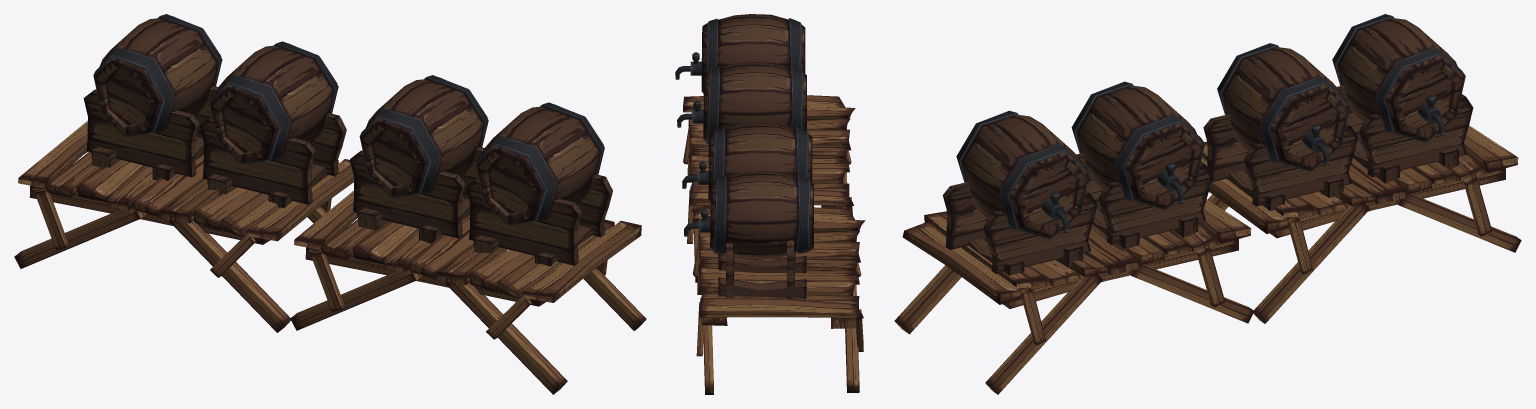
File: CocinaBarrels.fbx
The picture shows the model from 3 angles, left to right: view 1: azimuth 30°, elevation 25°; view 2: azimuth 150°, elevation 25°; view 3: azimuth 270°, elevation 25°; orthographic projection. The views are drawn at different scales.
Parts seen in each view (by area): view 1: SM_PROP_woodbridge_dungeon_07.001, SM_PROP_woodbridge_dungeon_07, SM_PROP_barrel_dungeon_05.003, SM_PROP_barrel_dungeon_05.006, SM_PROP_barrel_dungeon_05.005, SM_PROP_barrel_dungeon_05.004; view 2: SM_PROP_woodbridge_dungeon_07, SM_PROP_barrel_dungeon_05.004, SM_PROP_barrel_dungeon_05.005, SM_PROP_woodbridge_dungeon_07.001, SM_PROP_barrel_dungeon_05.003, SM_PROP_barrel_dungeon_05.006; view 3: SM_PROP_woodbridge_dungeon_07.001, SM_PROP_barrel_dungeon_05.003, SM_PROP_barrel_dungeon_05.006, SM_PROP_barrel_dungeon_05.004, SM_PROP_barrel_dungeon_05.005, SM_PROP_woodbridge_dungeon_07.
Part boxes in pixels (box(x1,y1,x2,y2)): SM_PROP_woodbridge_dungeon_07.001: box(290, 191, 646, 394); SM_PROP_woodbridge_dungeon_07: box(14, 121, 354, 332); SM_PROP_barrel_dungeon_05.003: box(200, 41, 346, 207); SM_PROP_barrel_dungeon_05.006: box(466, 102, 612, 266); SM_PROP_barrel_dungeon_05.005: box(350, 75, 488, 243); SM_PROP_barrel_dungeon_05.004: box(83, 14, 222, 180); SM_PROP_woodbridge_dungeon_07: box(692, 207, 865, 394); SM_PROP_barrel_dungeon_05.004: box(684, 171, 813, 298); SM_PROP_barrel_dungeon_05.005: box(677, 62, 806, 144); SM_PROP_woodbridge_dungeon_07.001: box(683, 95, 855, 282); SM_PROP_barrel_dungeon_05.003: box(682, 123, 812, 201); SM_PROP_barrel_dungeon_05.006: box(675, 14, 805, 93); SM_PROP_woodbridge_dungeon_07.001: box(894, 199, 1254, 394); SM_PROP_barrel_dungeon_05.003: box(1203, 43, 1357, 210); SM_PROP_barrel_dungeon_05.006: box(942, 110, 1097, 275); SM_PROP_barrel_dungeon_05.004: box(1332, 14, 1473, 183); SM_PROP_barrel_dungeon_05.005: box(1071, 81, 1212, 249); SM_PROP_woodbridge_dungeon_07: box(1201, 125, 1521, 323).
Size of the model in its own units: 3.36 by 1.7 by 4.33.
Materials: 2 (2 with a texture image).
